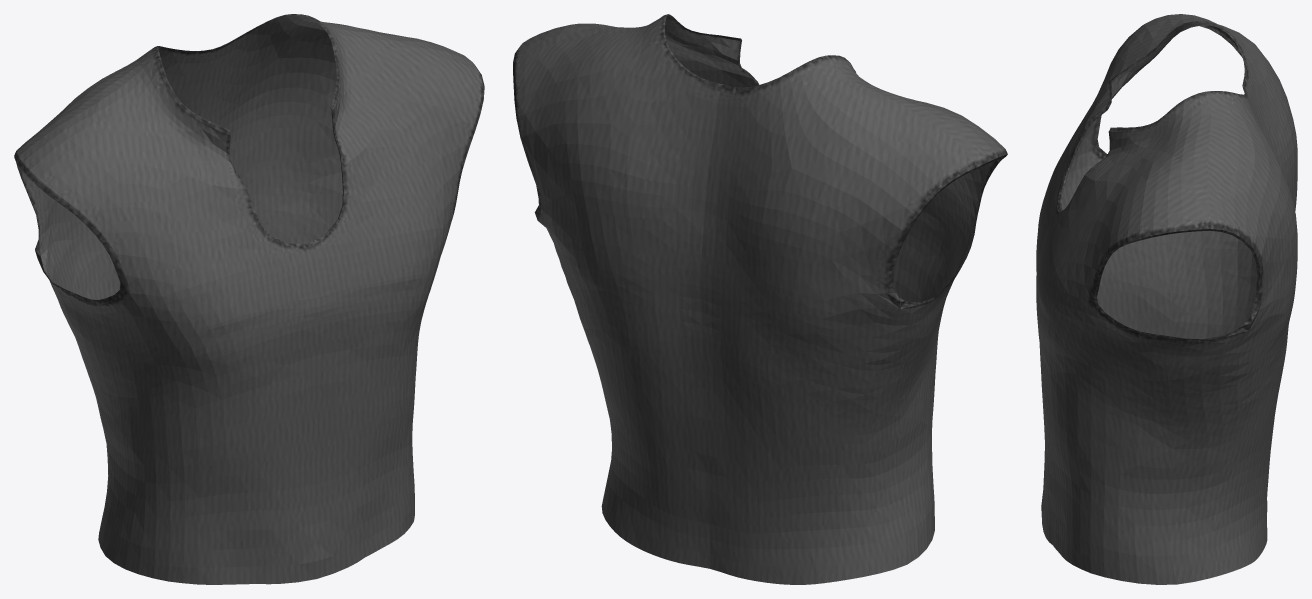
File: mhw_elvs_male_muscle_shirt1.glb
3 views of the same model, side by side, from view 1: azimuth 30°, elevation 25°; view 2: azimuth 150°, elevation 25°; view 3: azimuth 270°, elevation 25° (orthographic). The views are drawn at different scales.
Parts seen in each view (by area): view 1: mhw_elvs_male_muscle_shirt1; view 2: mhw_elvs_male_muscle_shirt1; view 3: mhw_elvs_male_muscle_shirt1.
Part boxes in pixels (x1=…): mhw_elvs_male_muscle_shirt1: x1=14, y1=14, x2=484, y2=584; mhw_elvs_male_muscle_shirt1: x1=513, y1=14, x2=1007, y2=584; mhw_elvs_male_muscle_shirt1: x1=1036, y1=14, x2=1297, y2=584.
Size of the model in its own units: 0.4791 by 0.4939 by 0.2506.
1 material, 1 textured.
